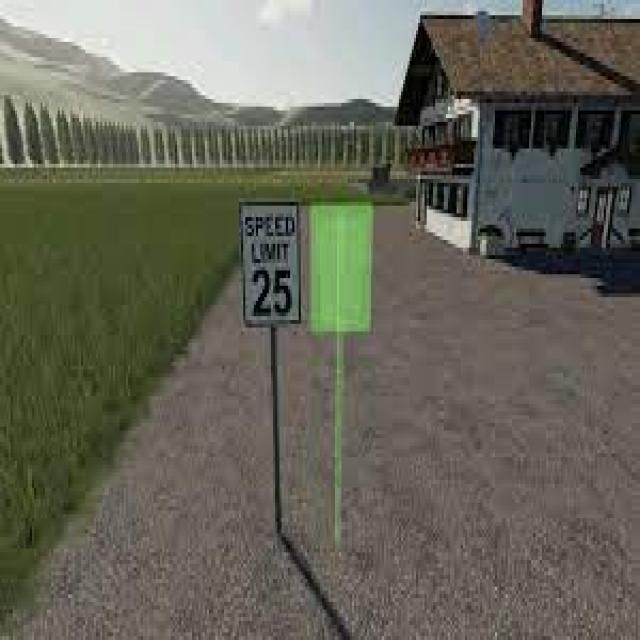speedLimit25: (239, 200, 305, 330)
